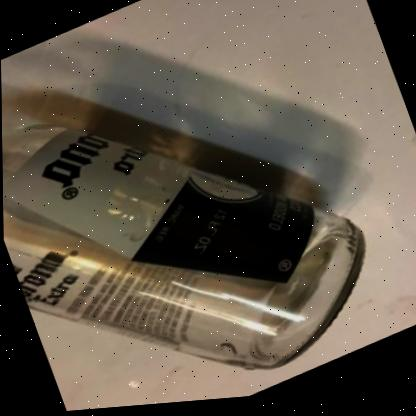Glass: (2, 125, 362, 374)
